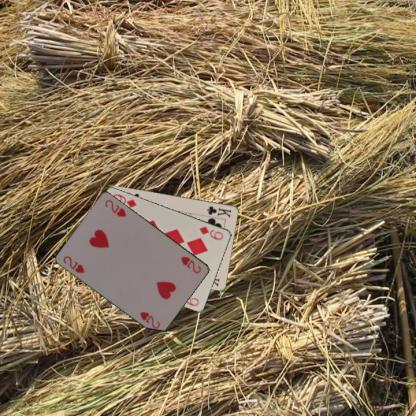2h: (61, 253, 86, 275), (178, 254, 203, 274)
9d: (197, 224, 225, 241)
Kc: (205, 203, 232, 219)
